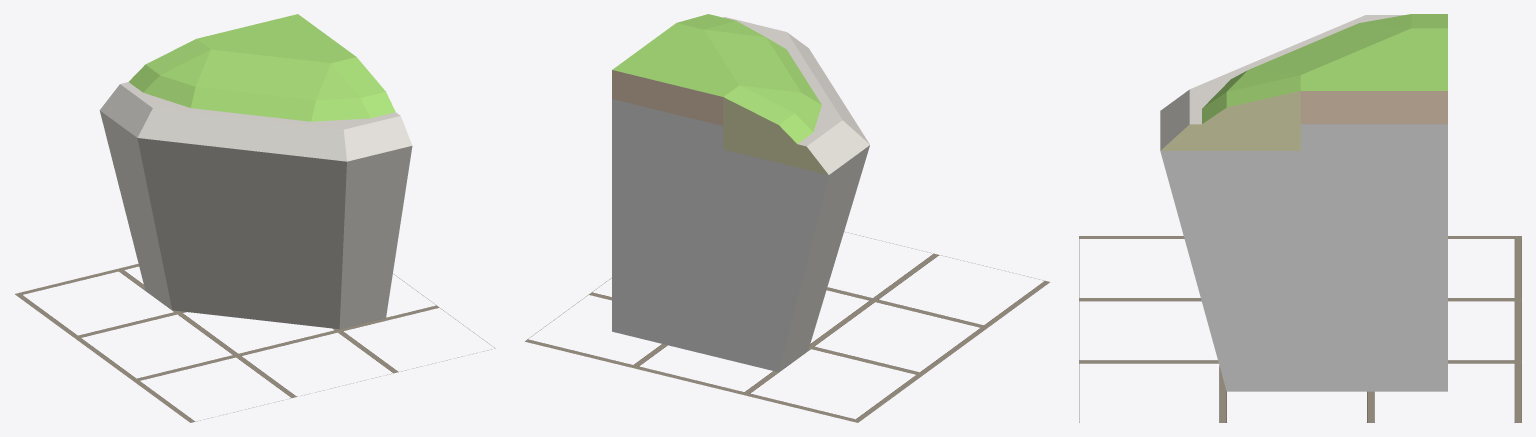
File: Basic_Curve_Outer_2x2_Wide_Top.glb
3 views of the same model, side by side, from view 1: azimuth 30°, elevation 25°; view 2: azimuth 150°, elevation 25°; view 3: azimuth 270°, elevation 25° (orthographic). The views are drawn at different scales.
Parts seen in each view (by area): view 1: Basic_Curve_Outer_2x2_Wide_Top, Floor; view 2: Basic_Curve_Outer_2x2_Wide_Top, Floor; view 3: Basic_Curve_Outer_2x2_Wide_Top, Floor.
Boxes of the visible parts, x1,y1,x2,y2 form: Basic_Curve_Outer_2x2_Wide_Top: (99,14,412,329); Floor: (15,264,495,422); Basic_Curve_Outer_2x2_Wide_Top: (612,14,869,372); Floor: (525,231,1049,422); Basic_Curve_Outer_2x2_Wide_Top: (1160,14,1447,391); Floor: (1079,236,1521,422).
Bounding box in the file's own units: 300 × 225 × 300.
Materials: 6 (1 with a texture image).
